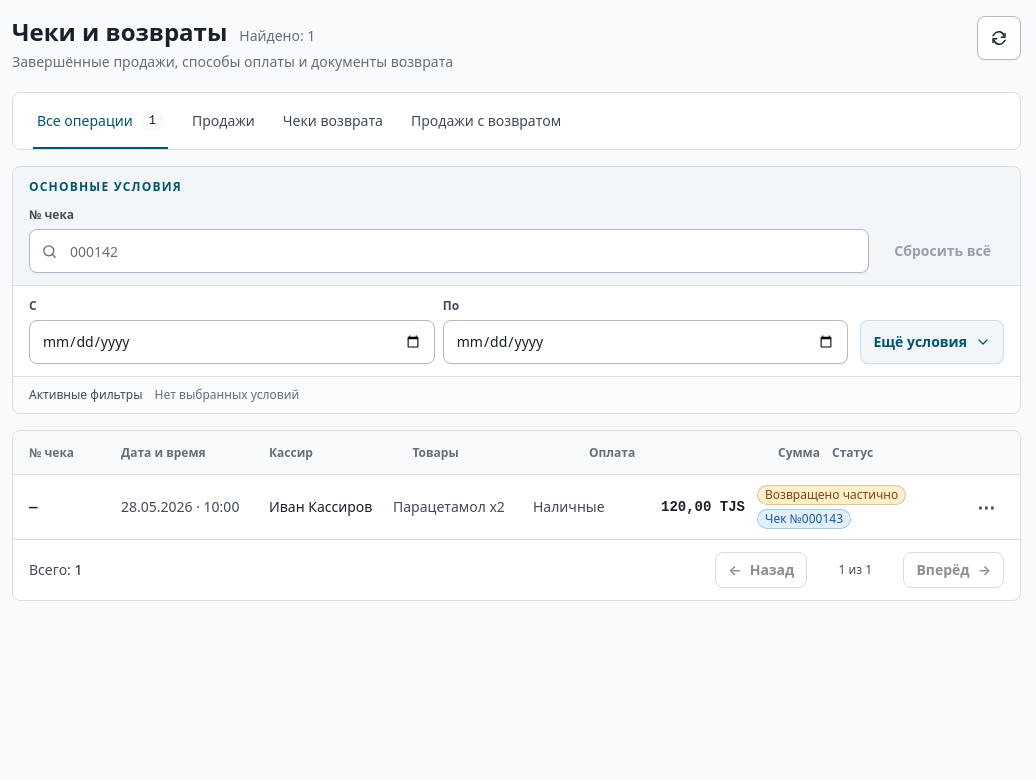
SalesPage › omits copying a missing receipt number (null)
The image size is (1036, 780).
Click the button named "Действия для чека без номера".
click(986, 507)  # box [968, 489, 1004, 525]
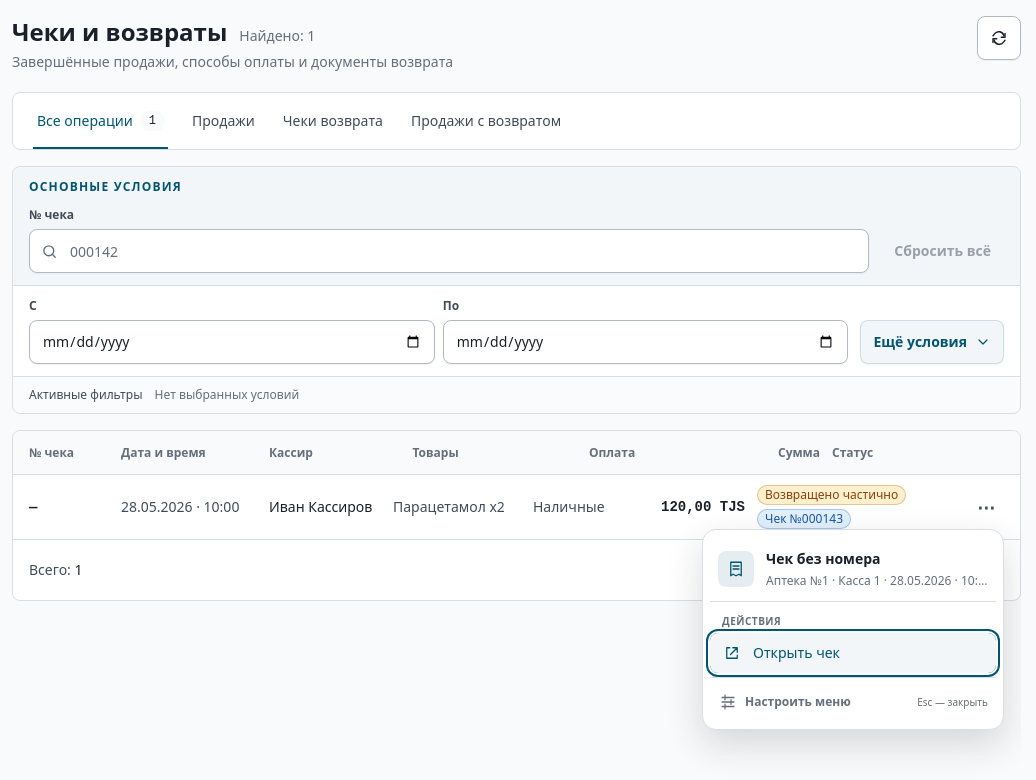
Result: the menu item "Открыть чек" is shown at [710, 633, 996, 673]
